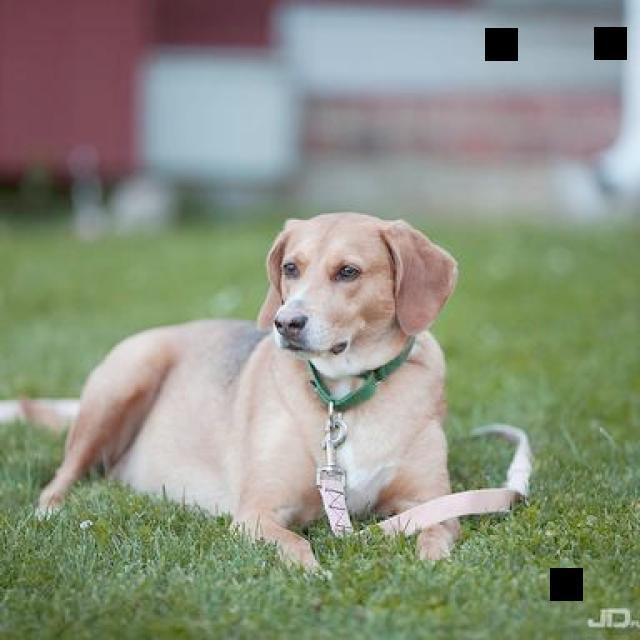adult_dog: (3, 209, 463, 576)
